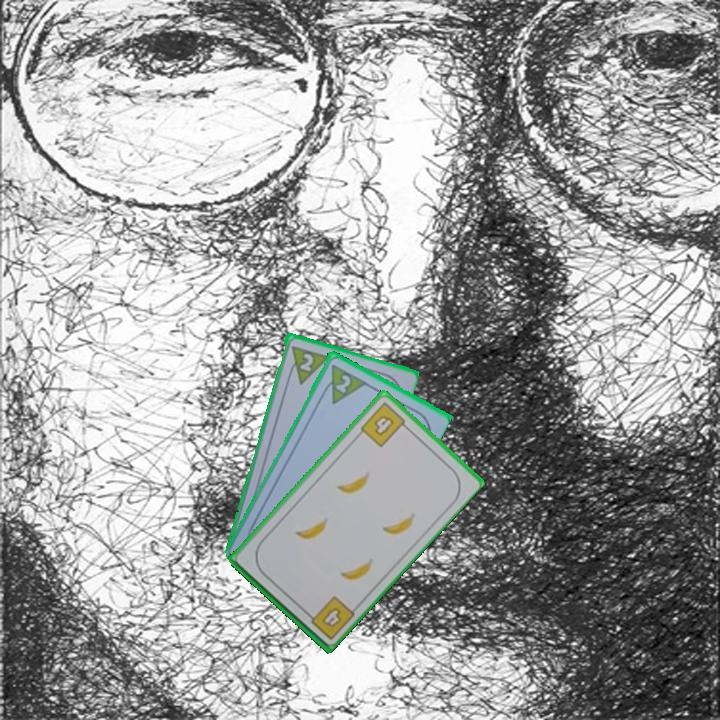2p: (317, 360, 368, 407), (283, 341, 330, 387)
4b: (357, 398, 412, 450), (301, 592, 357, 643)
